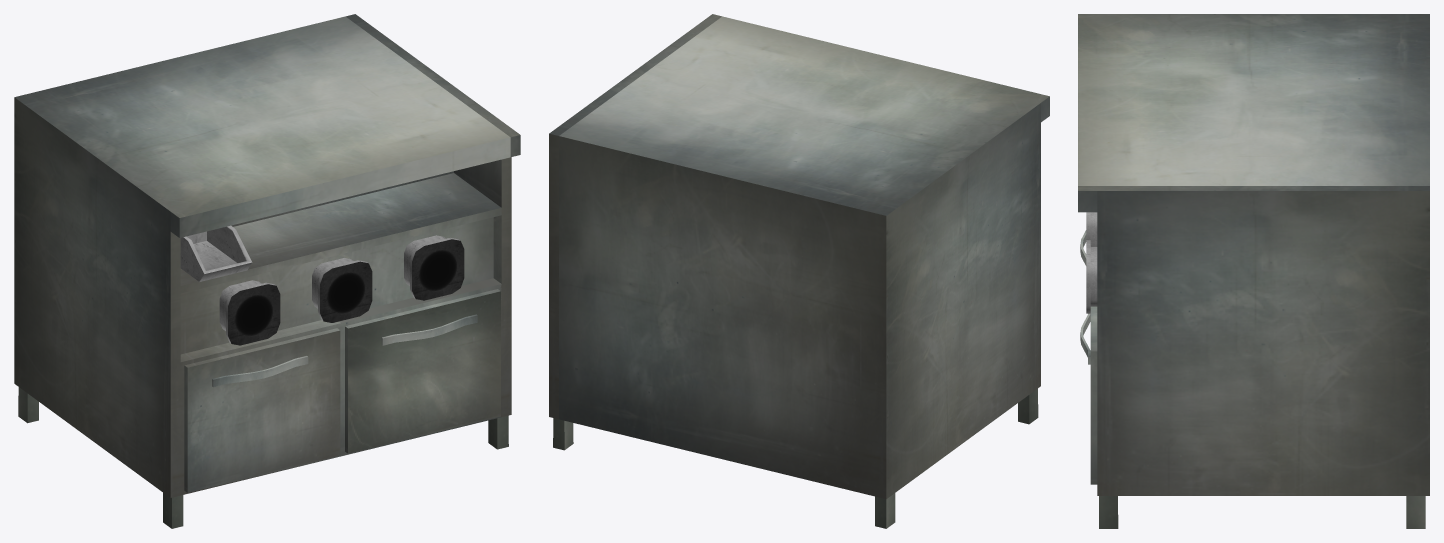
File: SauceShelf.fbx
3 views of the same model, side by side, from view 1: azimuth 30°, elevation 25°; view 2: azimuth 150°, elevation 25°; view 3: azimuth 270°, elevation 25° (orthographic). The views are drawn at different scales.
Parts seen in each view (by area): view 1: Shelf_C.001, Shelf_C.002; view 2: Shelf_C.001; view 3: Shelf_C.001.
Part boxes in pixels (<box>): Shelf_C.001: <box>14,14,520,528</box>; Shelf_C.002: <box>180,225,252,281</box>; Shelf_C.001: <box>549,14,1049,528</box>; Shelf_C.001: <box>1078,14,1429,528</box>.
Bounding box in the file's own units: 120 × 107 × 101.
